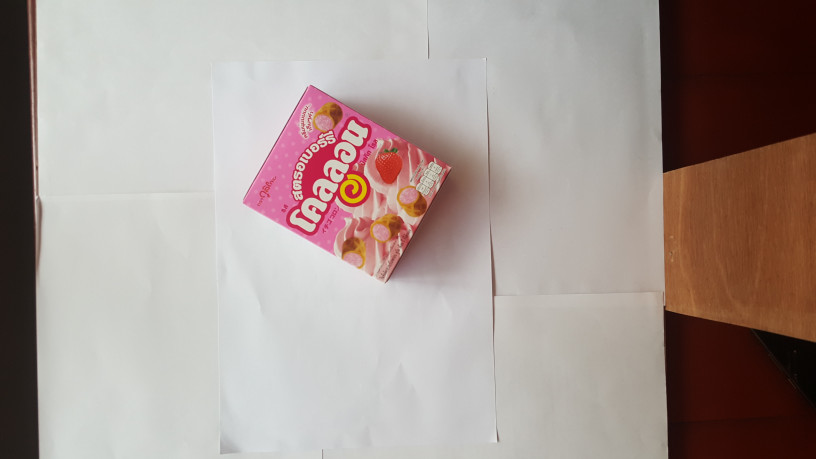collon-strawberry: (241, 83, 452, 286)
